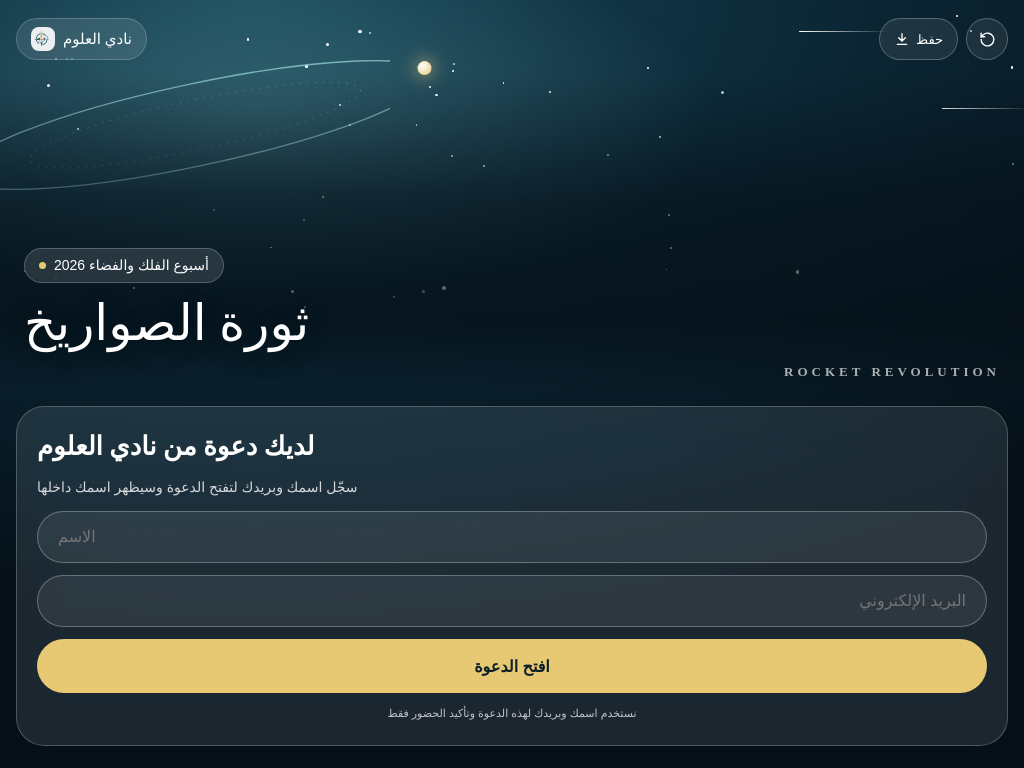
<Invitation> › asks general guests for name and email, then shows their name
Type "ريم الزهراني" into the field labelled "الاسم".
click(512, 537); type("ريم الزهراني")  # box [37, 511, 987, 563]
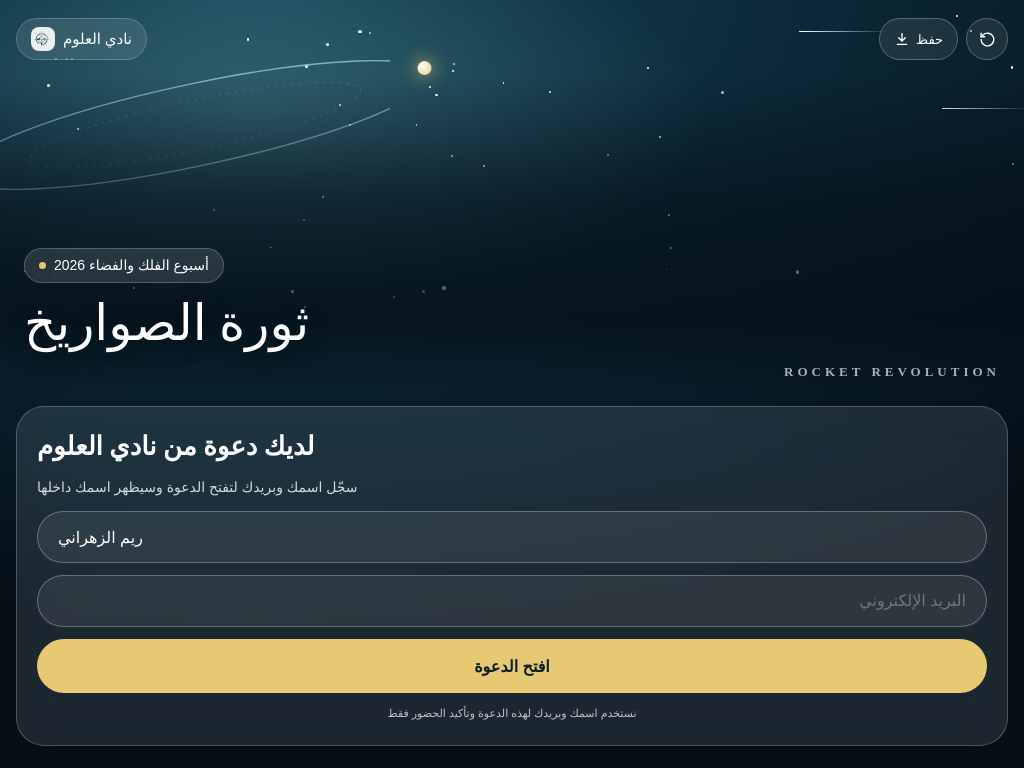
Type "reem@example.com" into the field labelled "البريد الإلكتروني".
click(512, 601); type("reem@example.com")  # box [37, 575, 987, 627]
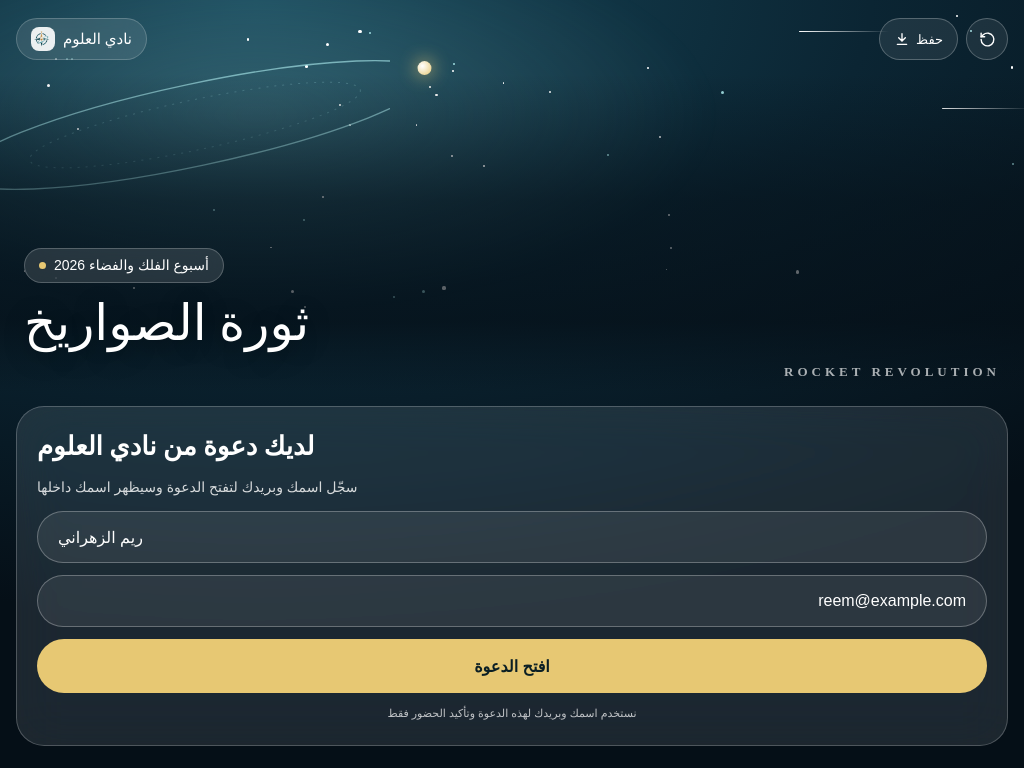
Click the button "افتح الدعوة".
click(512, 666)  # box [37, 639, 987, 693]
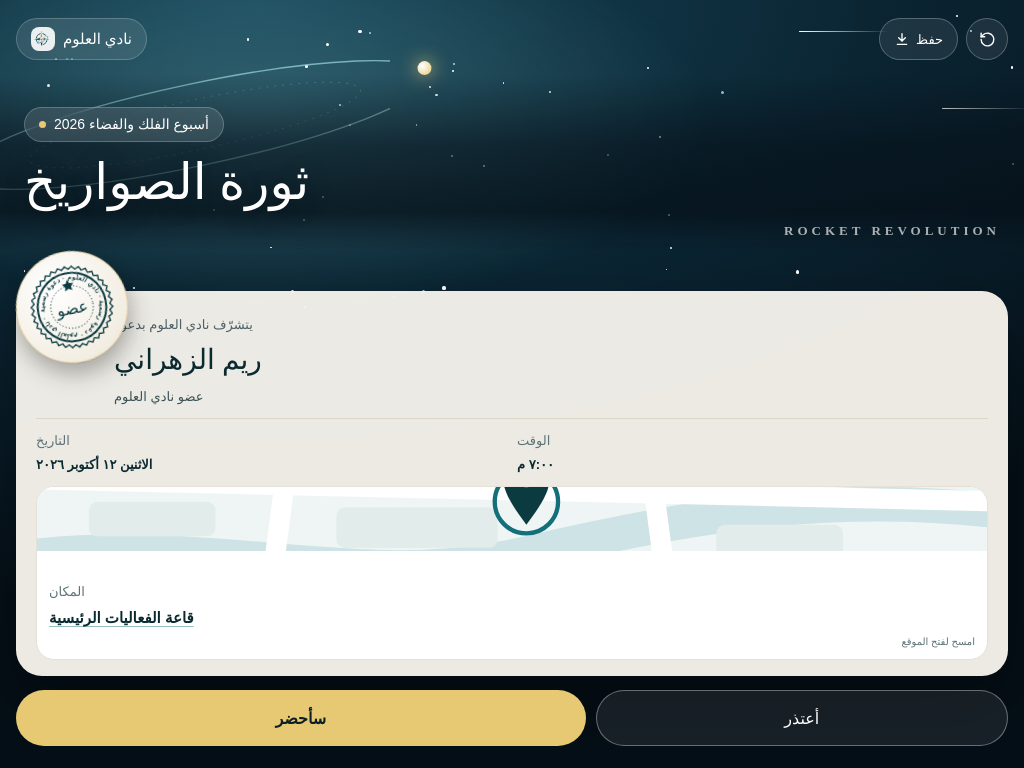
Now the text "ريم الزهراني" is shown, box [114, 344, 262, 375]
